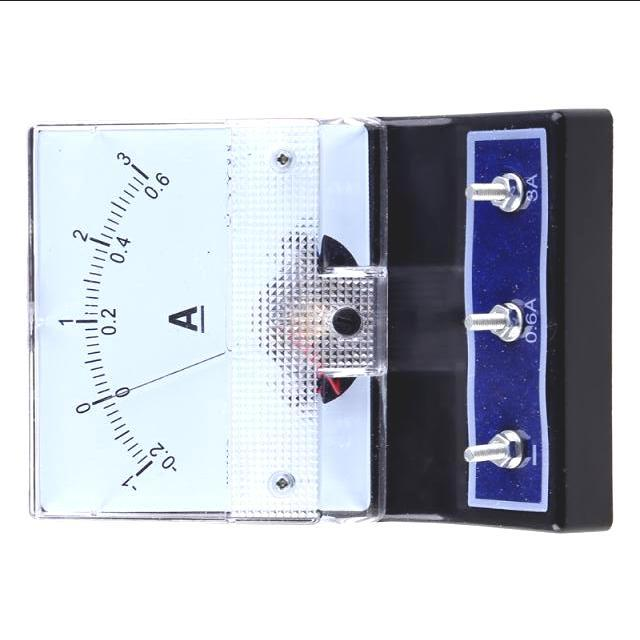Needle_Tip: (77, 368, 119, 433)
Needle_base: (286, 273, 411, 373)
max_value: (100, 116, 145, 194)
min_value: (102, 449, 149, 519)
